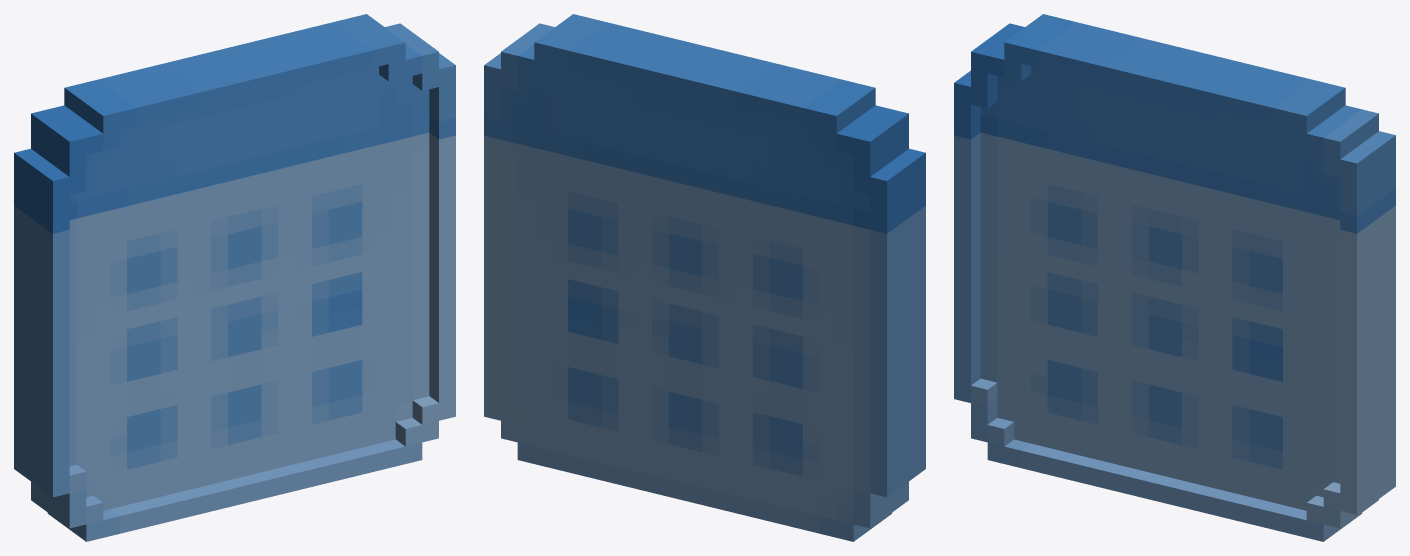
The model's file is calendar-blue.glb.
The picture shows the model from 3 angles, left to right: view 1: azimuth 30°, elevation 25°; view 2: azimuth 150°, elevation 25°; view 3: azimuth 330°, elevation 25°; orthographic projection.
Parts seen in each view (by area): view 1: prop; view 2: prop; view 3: prop.
Part boxes in pixels (left/top/right/bottom): prop: left=14, top=14, right=455, bottom=541; prop: left=484, top=14, right=925, bottom=541; prop: left=954, top=14, right=1395, bottom=541.
Bounding box in the file's own units: 16 × 16 × 2.67.
